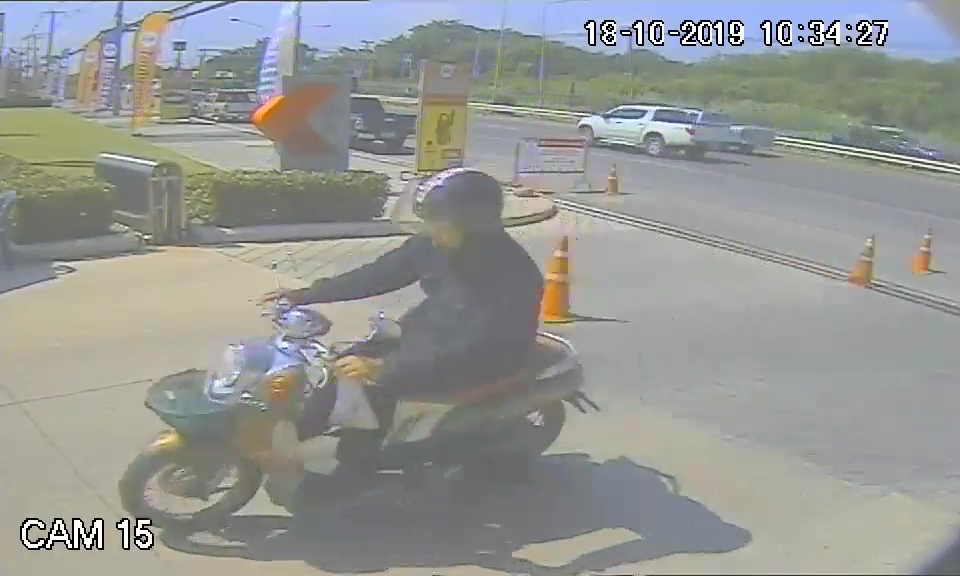motorcycle: (121, 307, 589, 535)
